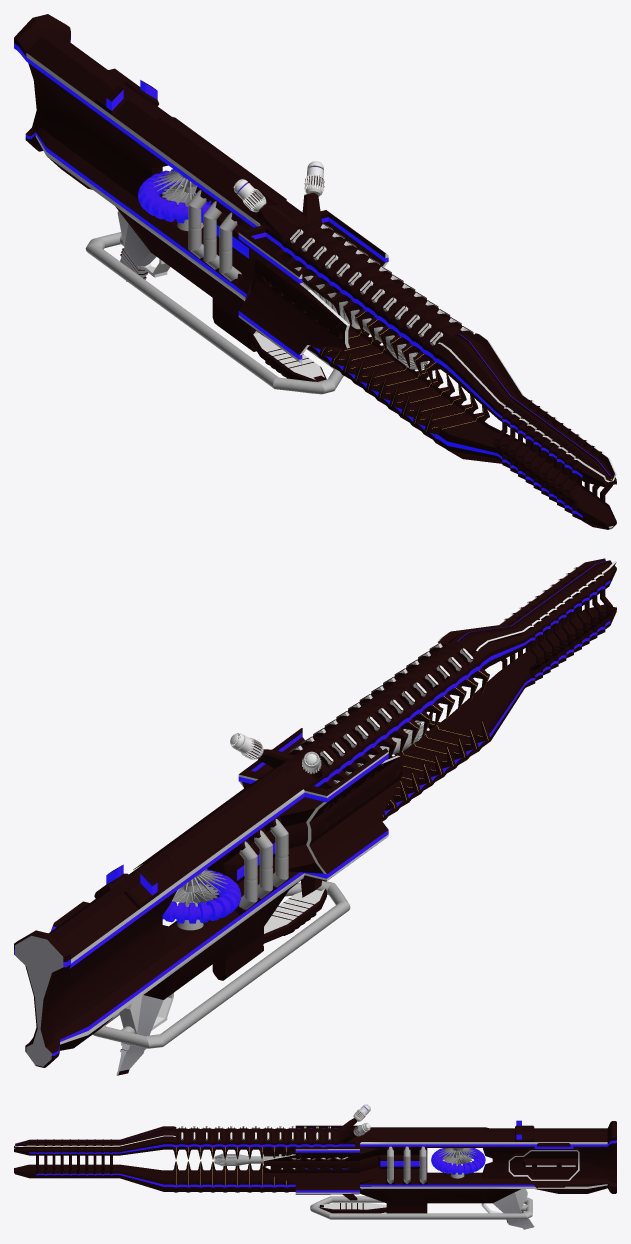
Rendered from EnetgyGun .fbx.
3 renders of one model, top to bottom at view 1: azimuth 30°, elevation 25°; view 2: azimuth 150°, elevation 25°; view 3: azimuth 270°, elevation 25°, orthographic. The views are drawn at different scales.
Visible parts, largest first — view 1: Cube, Cube.001, Tee Joint, Torus, Cylinder.004, Cylinder.003, Elbow Joint.004, Elbow Joint.005, Elbow Joint.006; view 2: Cube, Cube.001, Tee Joint, Torus, Cylinder.003, Elbow Joint.006, Elbow Joint.005, Elbow Joint.004; view 3: Cube, Tee Joint, Cube.001, Torus, Cylinder.004, Cylinder.003, Elbow Joint.003, Elbow Joint.002, Elbow Joint.001.
Part boxes in pixels (x1,y1,x2,y2): Cube: (14, 14, 616, 529); Cube.001: (133, 115, 286, 209); Tee Joint: (85, 232, 343, 394); Torus: (138, 169, 211, 223); Cylinder.004: (294, 267, 428, 369); Cylinder.003: (153, 171, 203, 230); Elbow Joint.004: (219, 212, 241, 281); Elbow Joint.005: (203, 201, 221, 269); Elbow Joint.006: (188, 190, 206, 258); Cube: (14, 558, 616, 1075); Cube.001: (133, 767, 286, 880); Tee Joint: (93, 880, 350, 1048); Torus: (162, 869, 241, 923); Cylinder.003: (172, 869, 227, 930); Elbow Joint.006: (239, 841, 257, 910); Elbow Joint.005: (254, 830, 272, 898); Elbow Joint.004: (270, 819, 288, 887); Cube: (14, 1118, 616, 1229); Tee Joint: (310, 1196, 532, 1219); Cube.001: (366, 1127, 495, 1140); Torus: (431, 1148, 485, 1174); Cylinder.004: (214, 1153, 347, 1166); Cylinder.003: (438, 1148, 476, 1178); Elbow Joint.003: (419, 1146, 426, 1184); Elbow Joint.002: (403, 1146, 410, 1183); Elbow Joint.001: (387, 1146, 393, 1184).
Bounding box in the file's own units: 874 × 2029 × 9538.
